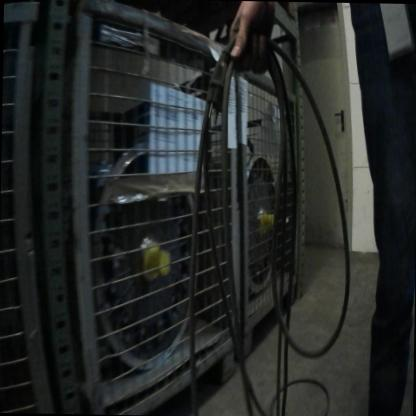stillage: (65, 1, 244, 405), (118, 55, 305, 358), (0, 1, 49, 413)
